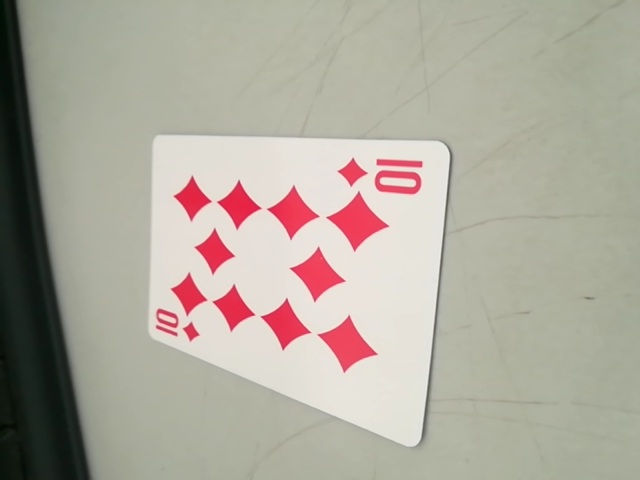fk 10: (336, 152, 431, 198), (151, 307, 207, 350)
